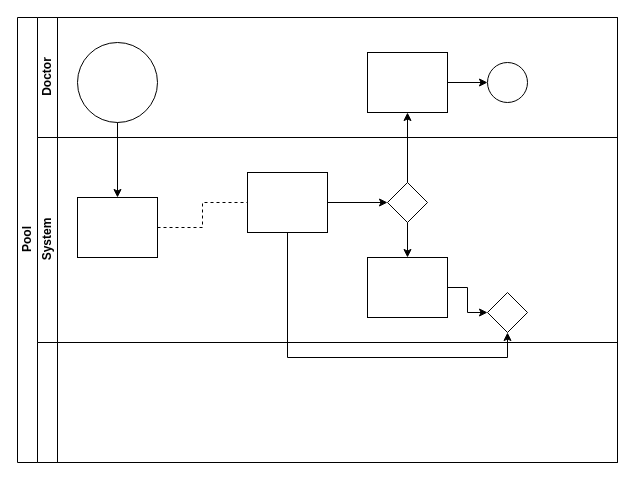
The diagram is 635 pixels wide and 480 high, and some of its shapes have lost their labels. Here are the shapes that lost their labels. From the top down, the centre of each, then its label:
the point at 117,82: Cancel appointment
the point at 327,402: Lane 3
